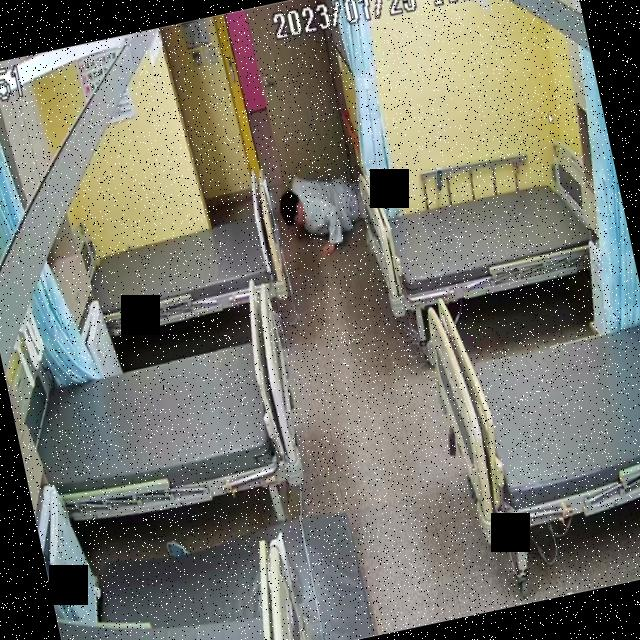bed: (418, 257, 640, 542), (21, 327, 310, 530), (358, 154, 612, 319), (84, 201, 288, 336)
fall: (274, 161, 369, 261)
patient: (271, 160, 371, 258)
